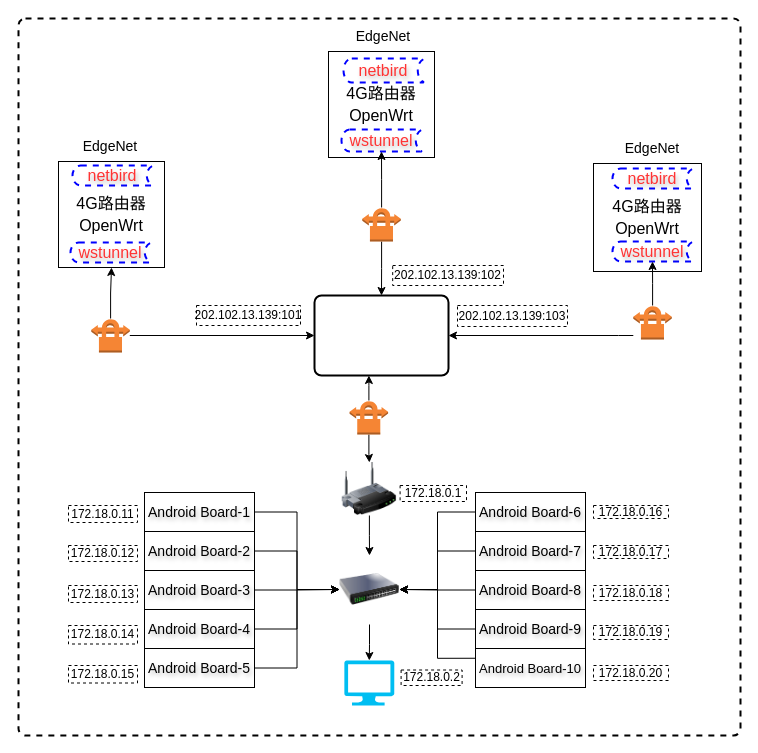
Image size: 758x753. Some labels were removed from this diagram. The shapes that lost their labels are listed below. From the top down, each one's box as (x1, y1, x2, y2) in pixels, then its label:
(313, 294, 449, 376): wstunnel Server NetGuard Relay 202.102.13.139
(336, 462, 402, 515): 5G路由器
(344, 660, 394, 705): x86-Ubuntu
